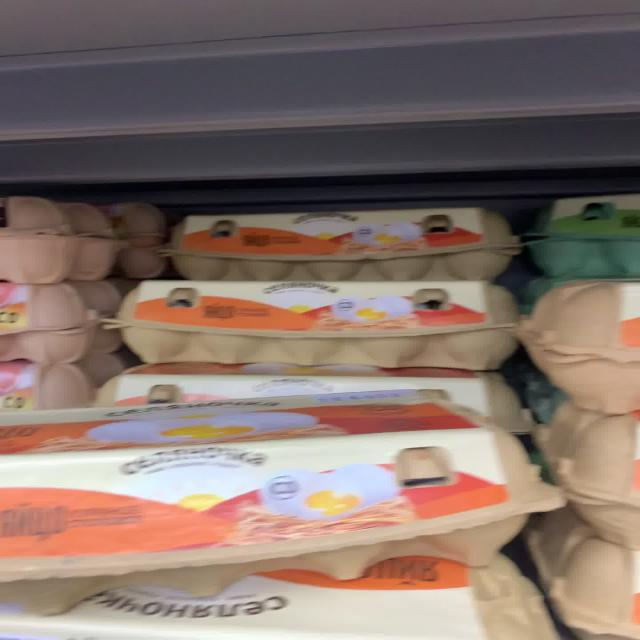egg box: (4, 400, 562, 616), (108, 280, 524, 366), (166, 207, 516, 281)
